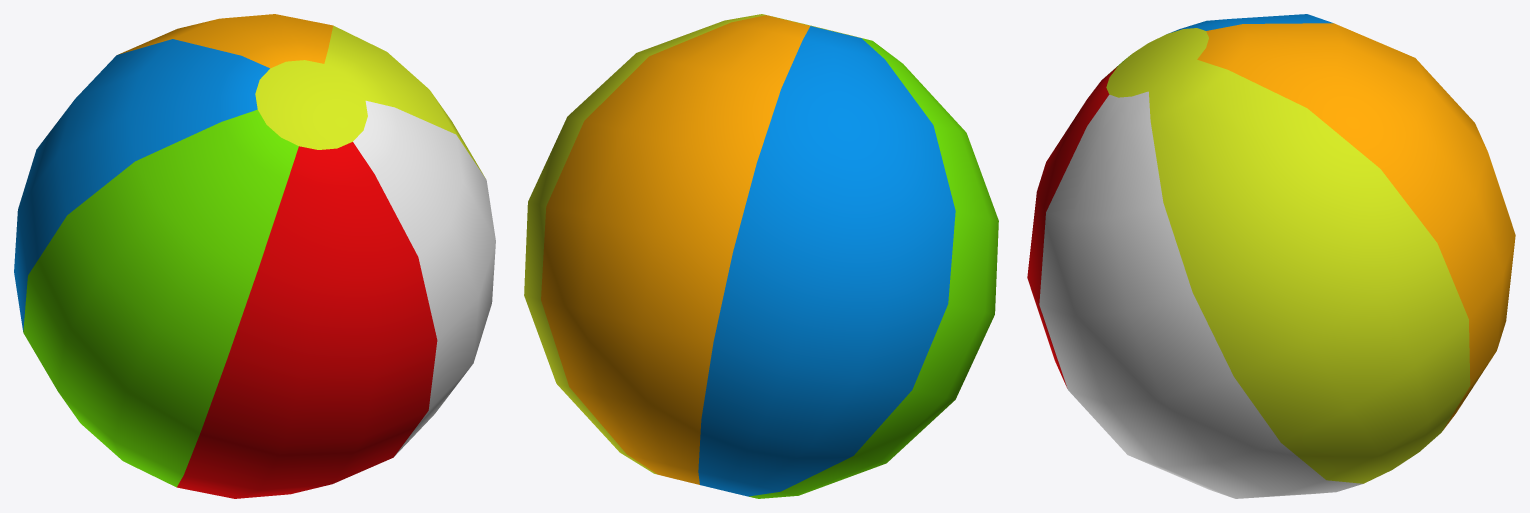
The model's file is BeachBall.fbx.
3 renders of one model, left to right at view 1: azimuth 30°, elevation 25°; view 2: azimuth 150°, elevation 25°; view 3: azimuth 270°, elevation 25°, orthographic.
Visible parts, largest first — view 1: BeachBall; view 2: BeachBall; view 3: BeachBall.
Boxes of the visible parts, box(x1,y1,x2,y2) form: BeachBall: box(14, 14, 495, 498); BeachBall: box(524, 14, 998, 498); BeachBall: box(1027, 14, 1515, 498).
Bounding box in the file's own units: 197 × 199 × 199.
